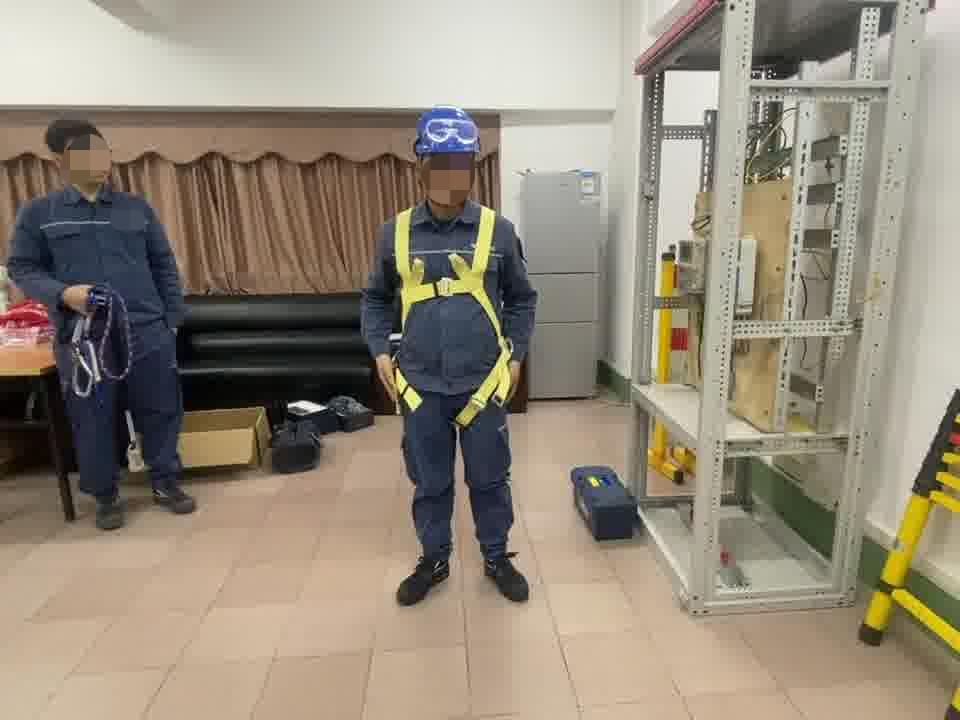halt: (414, 107, 486, 208)
noear: (51, 149, 80, 181)
unhalt: (48, 118, 116, 195)
